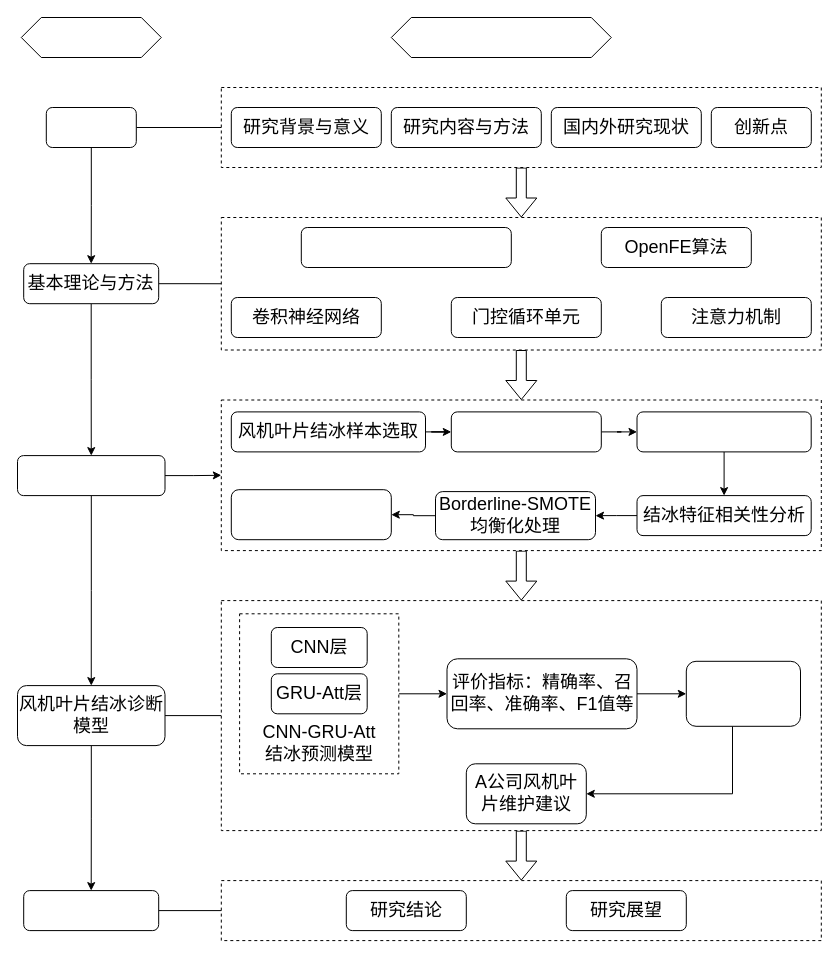
This 839x959 diagram has some shape labels left out. The centre of each missing label's shape, as x and y in pixels:
"Borderline-SMOTE算法" goes at (405,247).
"OpenFE特征生成及选择" goes at (310,514).
"实验结果及常见算法对比" goes at (742,693).
"归一化" goes at (525,431).
"总结与展望" goes at (91,910).
"研究内容与研究方法" goes at (500,37).
"研究目标" goes at (90,37).
"结冰特征重要性分析" goes at (723,431).
"绪论" goes at (90,127).
"预处理及特征选择" goes at (90,475).
